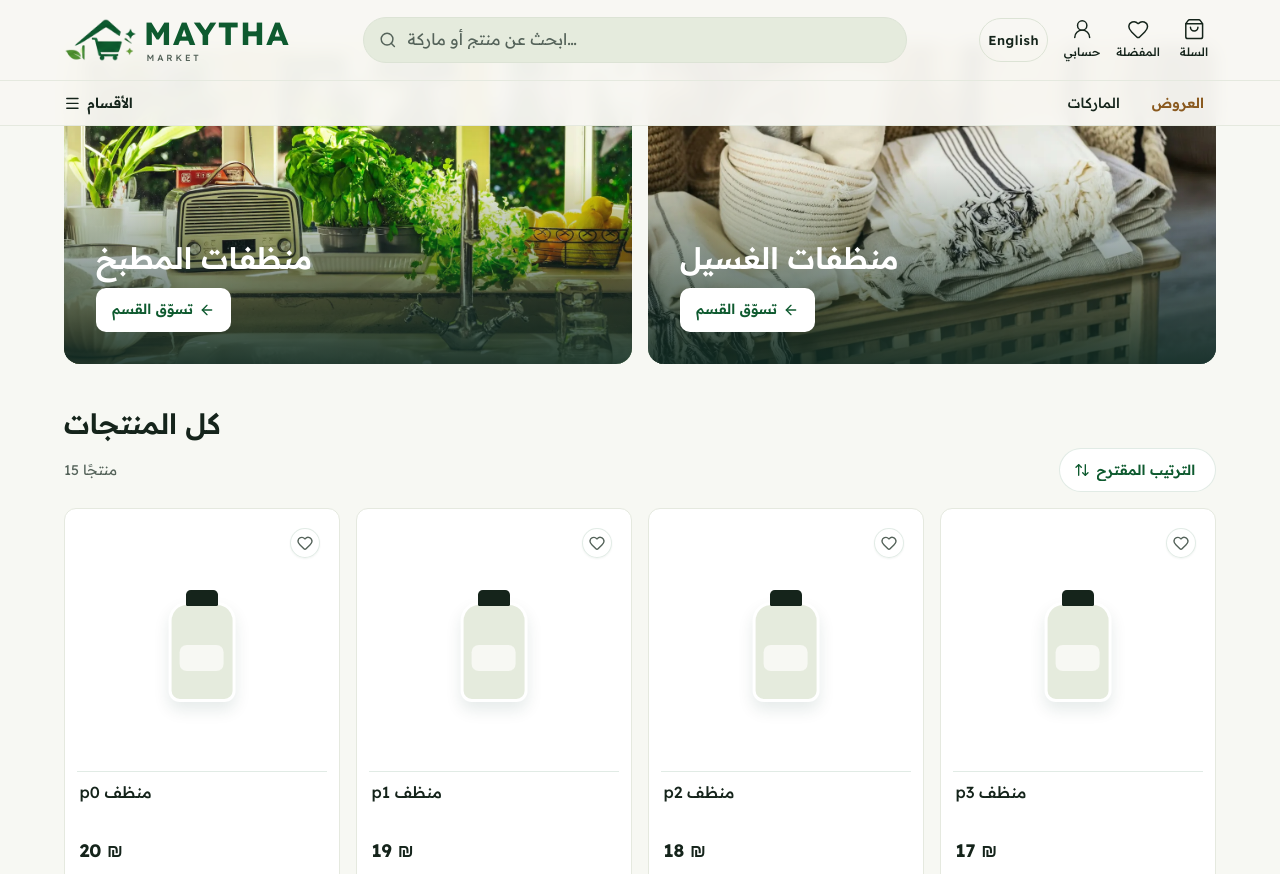
Test: catalog filters and sorting › sorts the whole matching catalog before the first batch, not only the visible cards
The width and height of the screenshot is (1280, 874).
(page scrolled)
Select "السعر: من الأقل" in the dropdown named "ترتيب المنتجات" at {"x": 1149, "y": 470}, box [1097,449,1201,491]
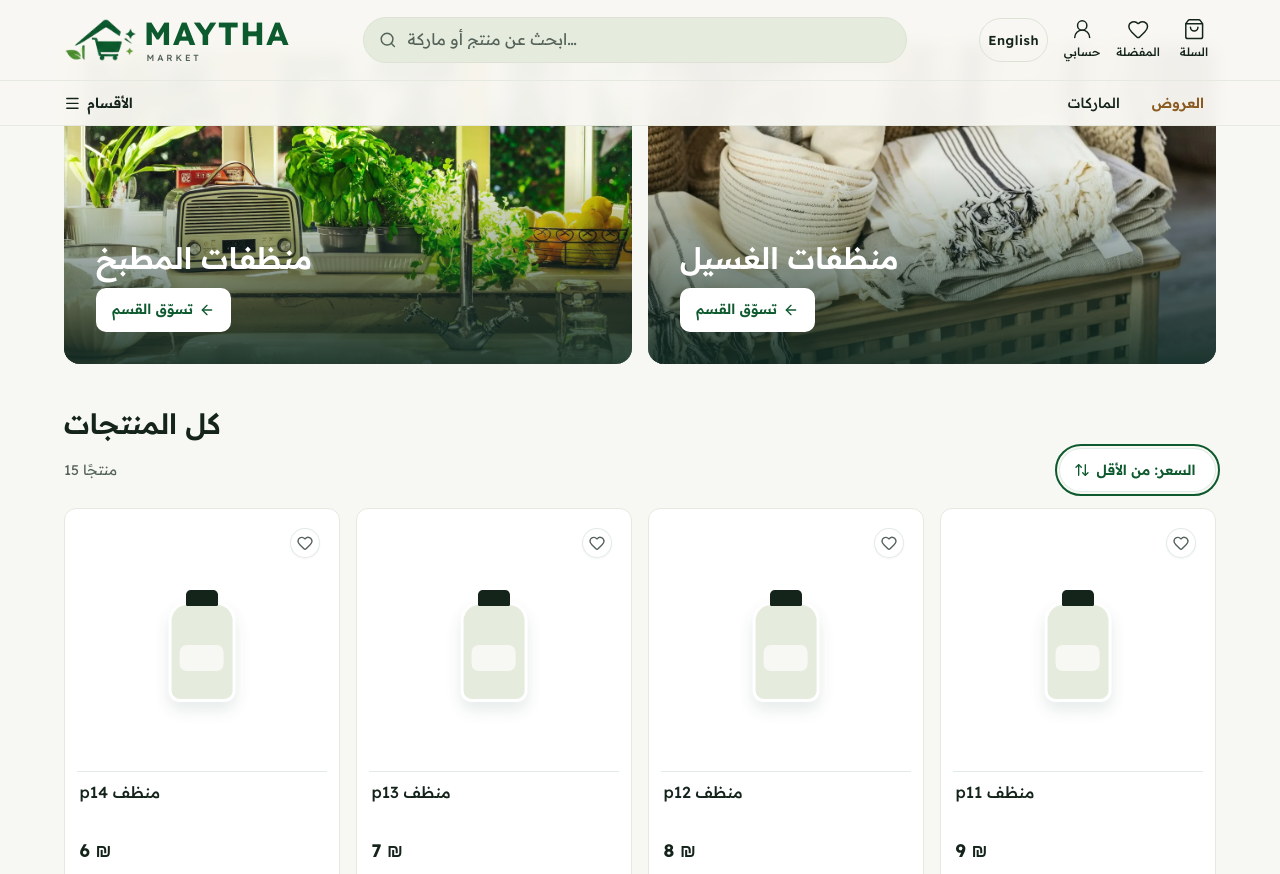
Result: the text "منظف p14" is shown at [79,782,160,802]
